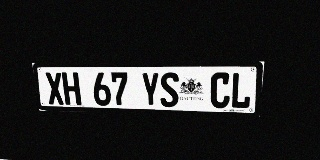6: (92, 72, 111, 106)
7: (110, 72, 129, 106)
C: (210, 72, 231, 108)
H: (61, 72, 81, 105)
L: (230, 72, 252, 109)
S: (160, 72, 179, 107)
X: (44, 72, 65, 105)
Y: (141, 72, 160, 107)
